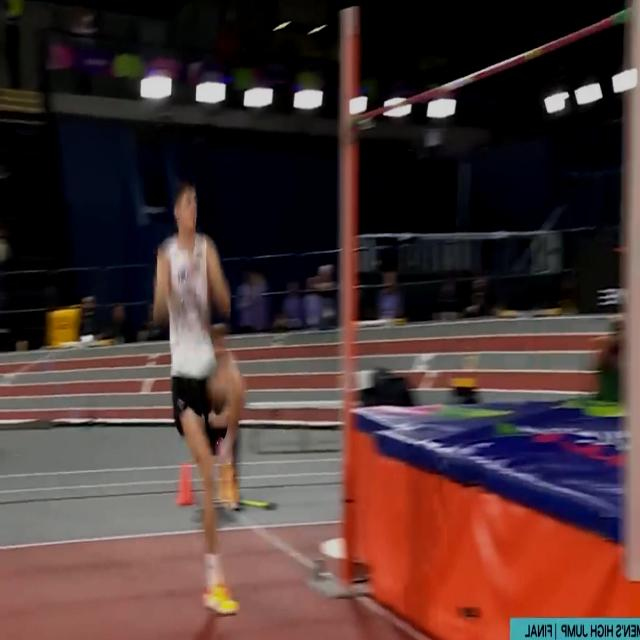jump: (153, 183, 245, 615)
